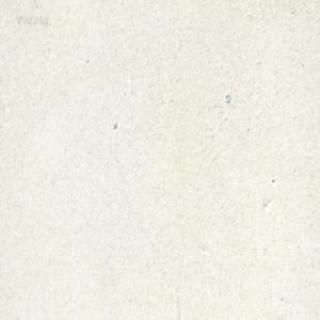Washertrack_idkeyframe: (224, 91, 230, 103)
